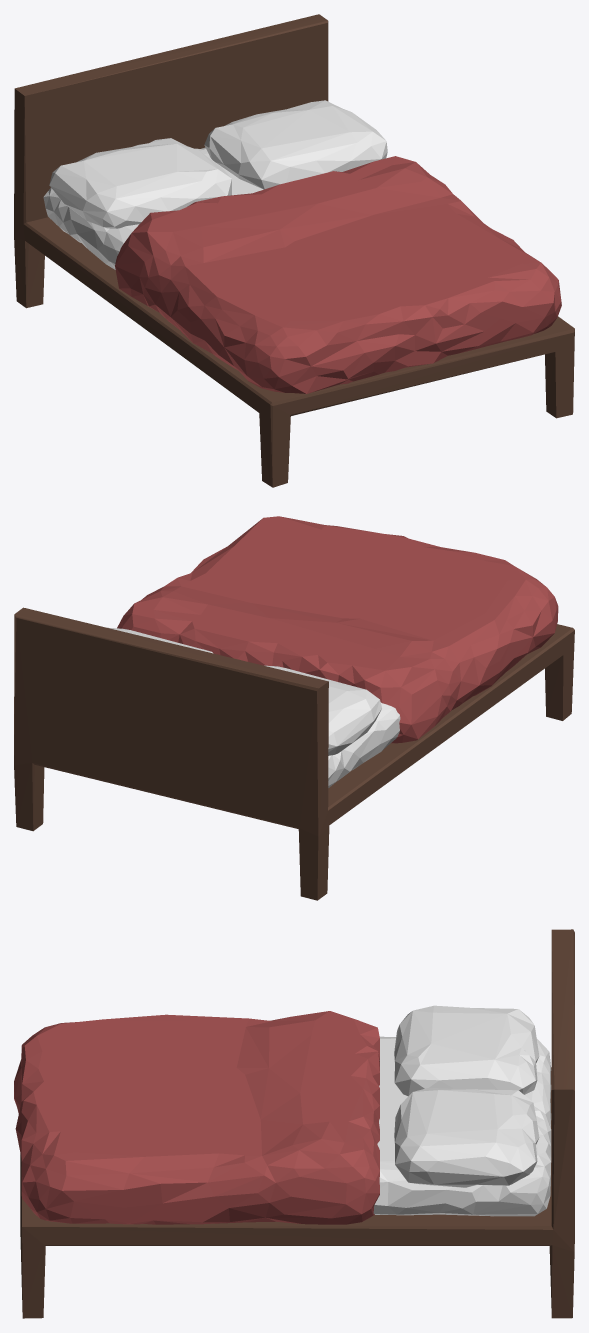
File: Bed.fbx
3 views of the same model, one above another, from view 1: azimuth 30°, elevation 25°; view 2: azimuth 150°, elevation 25°; view 3: azimuth 270°, elevation 25° (orthographic). The views are drawn at different scales.
Parts seen in each view (by area): view 1: Bed_03; view 2: Bed_03; view 3: Bed_03.
Part boxes in pixels (left/top/right/bottom): Bed_03: left=14, top=14, right=574, bottom=487; Bed_03: left=14, top=516, right=574, bottom=900; Bed_03: left=14, top=929, right=574, bottom=1318.
Size of the model in its own units: 129 by 84.87 by 188.
